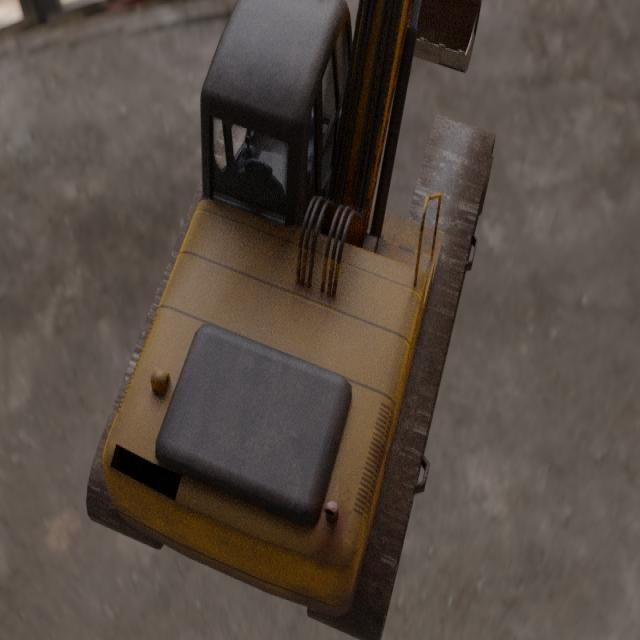excavator: (86, 0, 496, 640)
